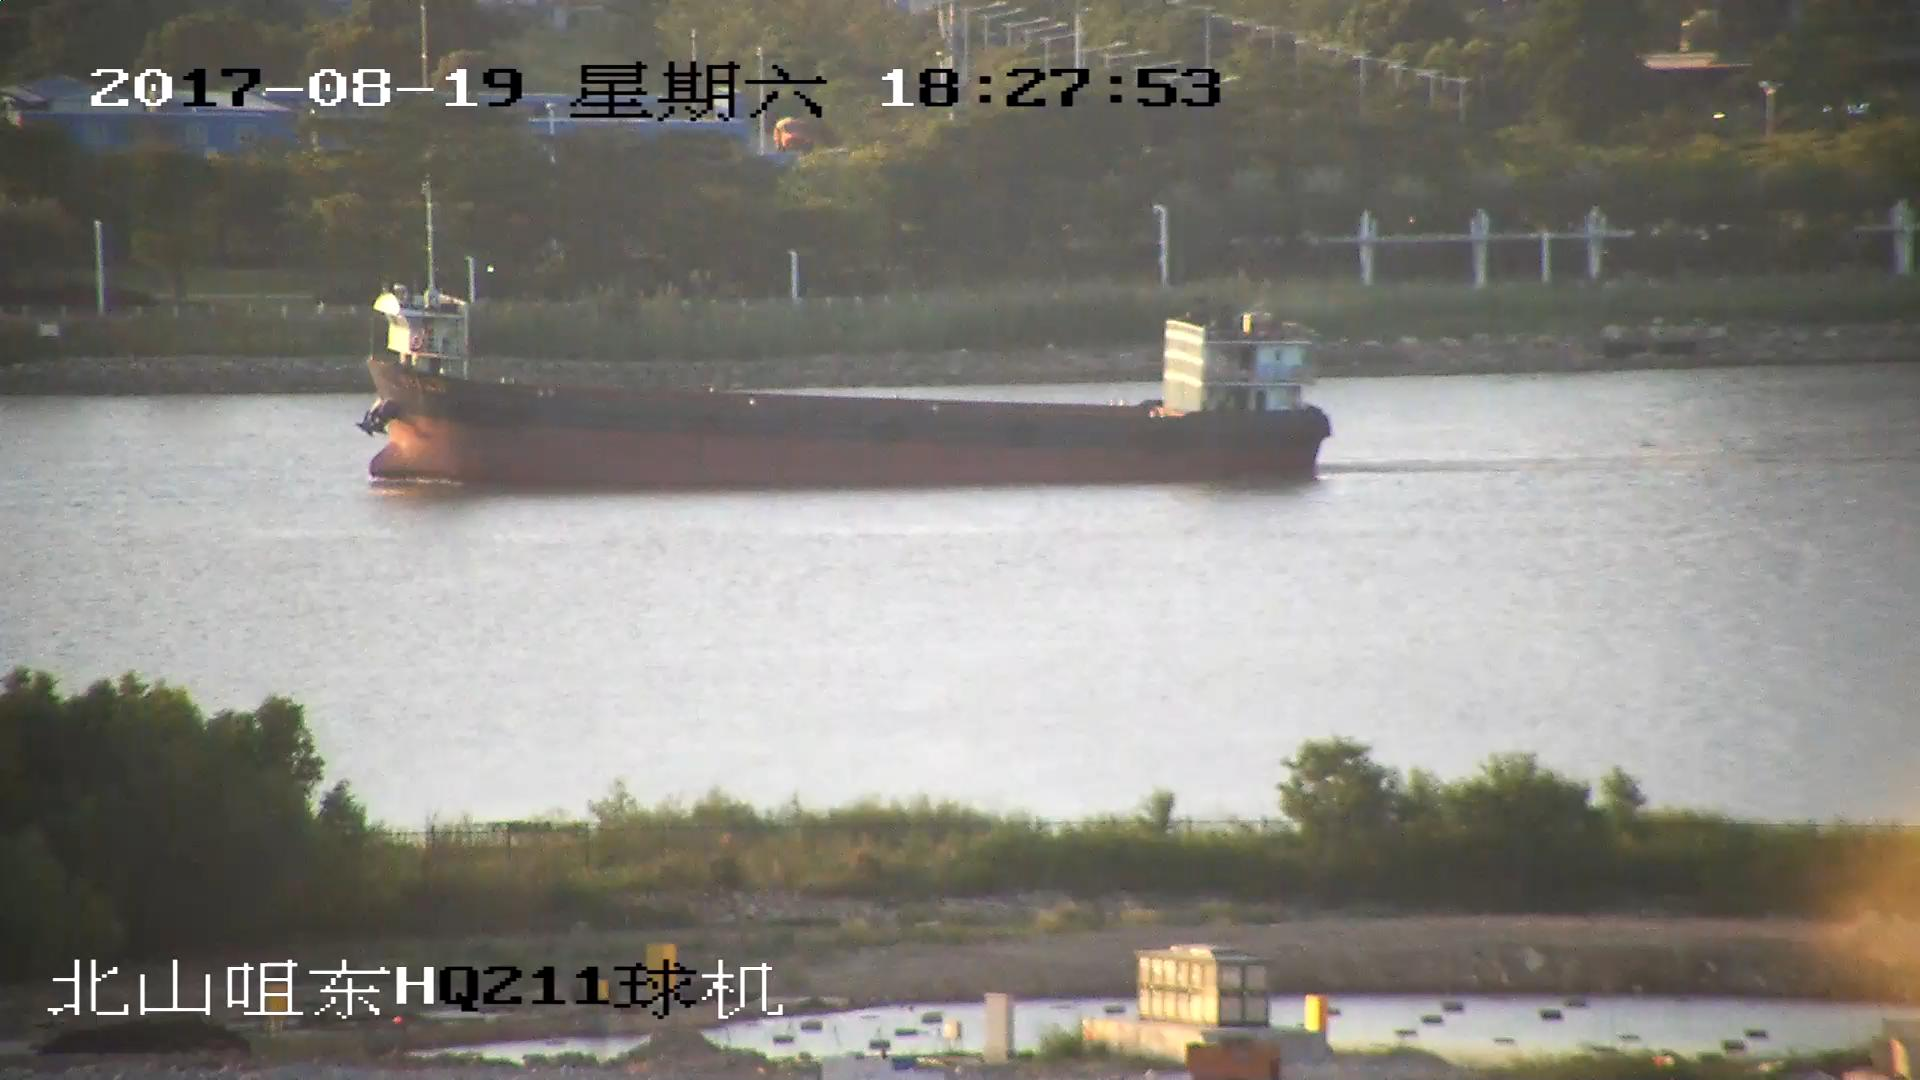general cargo ship: (364, 281, 1332, 486)
